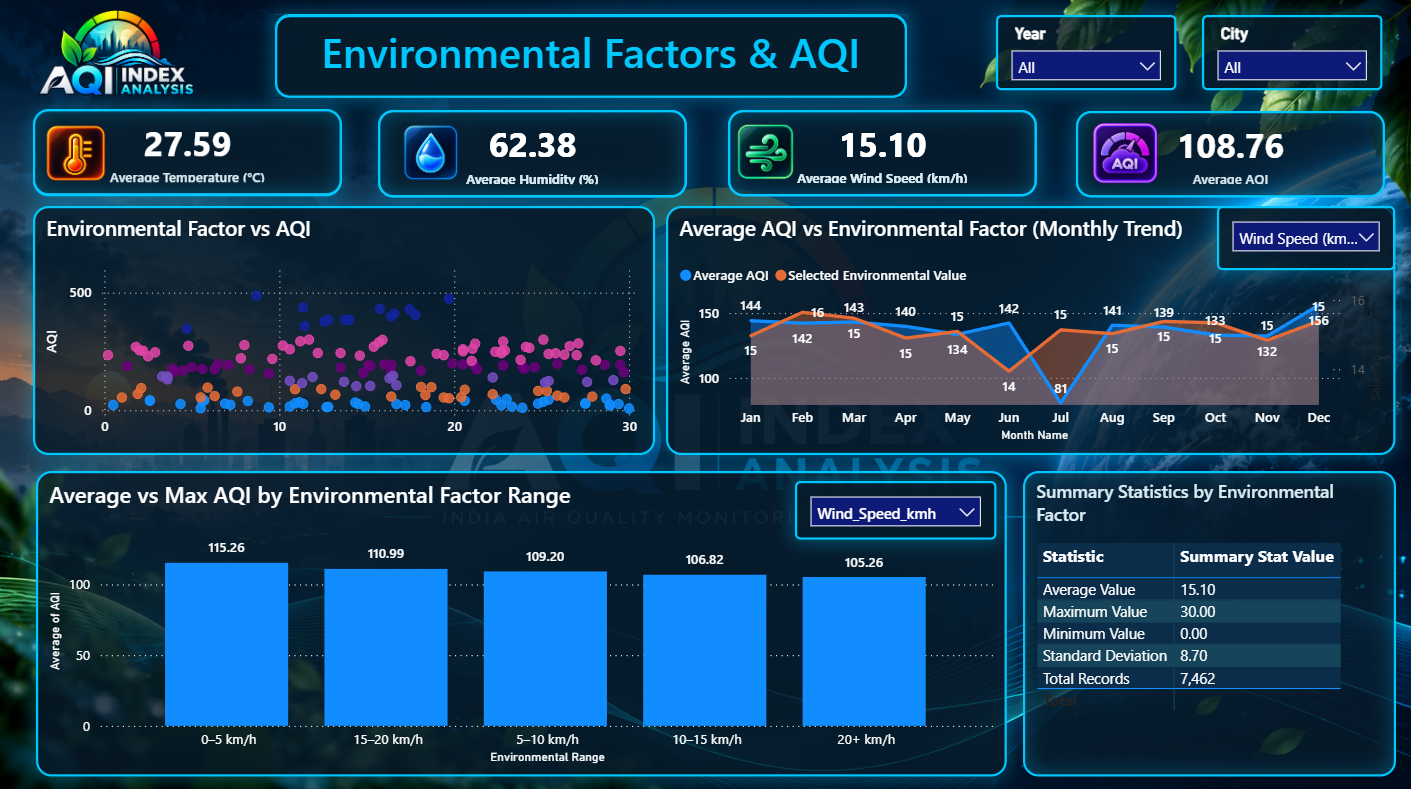

The dashboard page shown, as its layout file describes it:
{"tool":"powerbi","page":{"name":"Environmental Factors & AQI Analysis","canvas":[1280,720],"ordinal":2},"visuals":[{"type":"shape","box":[251.5,14.4,570.9,74.9],"z":0},{"type":"card","title":"Average AQI","fields":{"Values":["Fact_AQI.Average Temperature"]},"box":[32.1,101.2,279.1,78],"z":1000},{"type":"card","title":"Average AQI","fields":{"Values":["Fact_AQI.Average Humidity"]},"box":[344.3,101.2,279.1,78.8],"z":2000},{"type":"card","title":"Average AQI","fields":{"Values":["Fact_AQI.Average Wind Speed"]},"box":[660.4,101.2,279.1,77.8],"z":3000},{"type":"shape","box":[251.5,15.5,570.9,74.9],"z":4000},{"type":"image","box":[0,0,213,99.2],"z":5000},{"type":"slicer","fields":{"Values":["Dim_Date.Year"]},"box":[902.8,15.5,163.4,68.1],"z":6000},{"type":"textbox","title":"Environmental Factors & AQI Analysis","box":[284.4,23.7,503.8,50.6],"z":7000},{"type":"card","title":"Average AQI","fields":{"Values":["Fact_AQI.Average AQI"]},"box":[974.6,102.1,279.1,77.8],"z":8000},{"type":"scatterChart","title":"Environmental Factor vs AQI ","fields":{"Category":["Fact_AQI.station"],"Series":["Fact_AQI.AQI_Bucket"],"X":["Fact_AQI.Selected Environmental Value"],"Y":["Fact_AQI.Average AQI"]},"box":[32.1,187.7,562.2,224.7],"z":9000},{"type":"slicer","title":"City","fields":{"Values":["Dim_Location.city"]},"box":[1088.3,15.5,163.4,68.1],"z":10000},{"type":"clusteredColumnChart","title":"Average vs Max AQI by Environmental Factor Range","fields":{"Category":["Fact_Environmental.Environmental Range"],"Y":["Avg(Fact_Environmental.AQI)"]},"box":[35,427,877.3,276.2],"z":11000},{"type":"lineChart","title":"Average AQI vs Environmental Factor (Monthly Trend)","fields":{"Category":["Dim_Date.Month Name"],"Y":["Fact_AQI.Average AQI"],"Y2":["Fact_AQI.Selected Environmental Value"]},"box":[604,187.7,659.5,224.7],"z":12000},{"type":"card","title":"Average AQI","fields":{"Values":["Fact_AQI.Average Temperature"]},"box":[32.1,100.2,279.1,77.8],"z":13000},{"type":"image","box":[35,108,72,64.2],"z":14000},{"type":"image","box":[356,99.2,72,80.7],"z":15000},{"type":"card","title":"Average AQI","fields":{"Values":["Fact_AQI.Average Humidity"]},"box":[344.3,101.2,279.1,78.8],"z":16000},{"type":"image","box":[659.5,94.3,70,91.4],"z":17000},{"type":"card","title":"Average AQI","fields":{"Values":["Fact_AQI.Average Wind Speed"]},"box":[660.4,101.2,279.1,77.8],"z":18000},{"type":"card","title":"Average AQI","fields":{"Values":["Fact_AQI.Average AQI"]},"box":[974.6,102.1,279.1,77.8],"z":19000},{"type":"image","box":[984.3,105,69.1,71],"z":20000},{"type":"slicer","title":"City","fields":{"Values":["Environmental Factor.Environmental Factor"]},"box":[1102,187.7,161.5,58.4],"z":21000},{"type":"slicer","title":"City","fields":{"Values":["Fact_Environmental.Environmental Factor"]},"box":[720.7,436.7,181.9,53.5],"z":22000},{"type":"tableEx","title":"Summary Statistics by Environmental Factor","fields":{"Values":["Summary_Stats.Statistic","Summary_Stats.Summary Stat Value"]},"box":[926.9,427,336.5,276.2],"z":23000}]}

Visuals, with their boxes in screenshot pixels (x1, y1, x2, y2), scaled from the page's 1280x720 canvas onto the 1411x789 screenshot:
shape: <bbox>277, 16, 907, 98</bbox>
"Average AQI" card: <bbox>35, 111, 343, 196</bbox>
"Average AQI" card: <bbox>380, 111, 687, 197</bbox>
"Average AQI" card: <bbox>728, 111, 1036, 196</bbox>
shape: <bbox>277, 17, 907, 99</bbox>
image: <bbox>0, 0, 235, 109</bbox>
slicer - Dim_Date.Year: <bbox>995, 17, 1175, 92</bbox>
"Environmental Factors & AQI Analysis" textbox: <bbox>314, 26, 869, 81</bbox>
"Average AQI" card: <bbox>1074, 112, 1382, 197</bbox>
"Environmental Factor vs AQI " scatterChart: <bbox>35, 206, 655, 452</bbox>
"City" slicer: <bbox>1200, 17, 1380, 92</bbox>
"Average vs Max AQI by Environmental Factor Range" clusteredColumnChart: <bbox>39, 468, 1006, 771</bbox>
"Average AQI vs Environmental Factor (Monthly Trend)" lineChart: <bbox>666, 206, 1393, 452</bbox>
"Average AQI" card: <bbox>35, 110, 343, 195</bbox>
image: <bbox>39, 118, 118, 189</bbox>
image: <bbox>392, 109, 472, 197</bbox>
"Average AQI" card: <bbox>380, 111, 687, 197</bbox>
image: <bbox>727, 103, 804, 203</bbox>
"Average AQI" card: <bbox>728, 111, 1036, 196</bbox>
"Average AQI" card: <bbox>1074, 112, 1382, 197</bbox>
image: <bbox>1085, 115, 1161, 193</bbox>
"City" slicer: <bbox>1215, 206, 1393, 270</bbox>
"City" slicer: <bbox>794, 479, 995, 537</bbox>
"Summary Statistics by Environmental Factor" tableEx: <bbox>1022, 468, 1393, 771</bbox>
